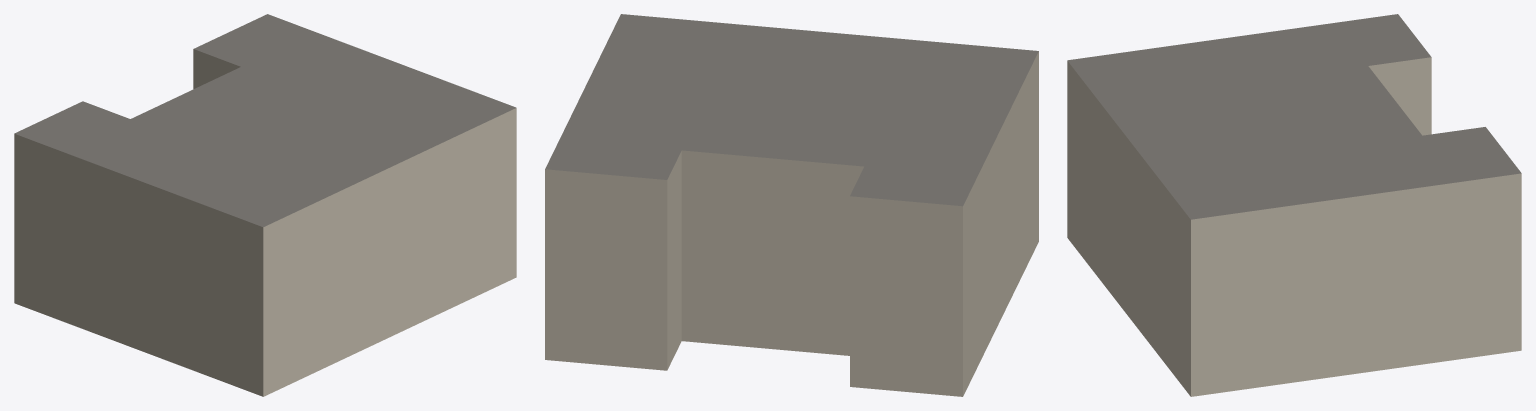
3 renders of one model, left to right at view 1: azimuth 30°, elevation 25°; view 2: azimuth 150°, elevation 25°; view 3: azimuth 270°, elevation 25°, orthographic. The views are drawn at different scales.
Visible parts, largest first — view 1: HP-w293397502; view 2: HP-w293397502; view 3: HP-w293397502.
Boxes of the visible parts, x1=… form: HP-w293397502: x1=14, y1=14, x2=516, y2=396; HP-w293397502: x1=545, y1=14, x2=1038, y2=396; HP-w293397502: x1=1067, y1=14, x2=1521, y2=396.
Size of the model in its own units: 44.8 by 18 by 41.84.
